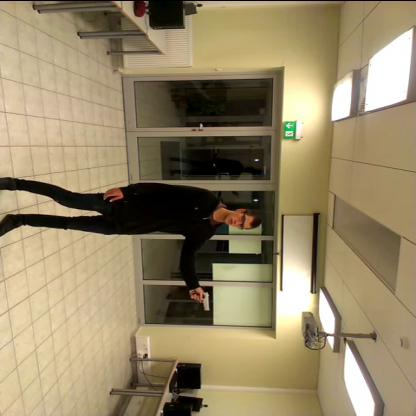Pistol: (191, 286, 223, 316)
